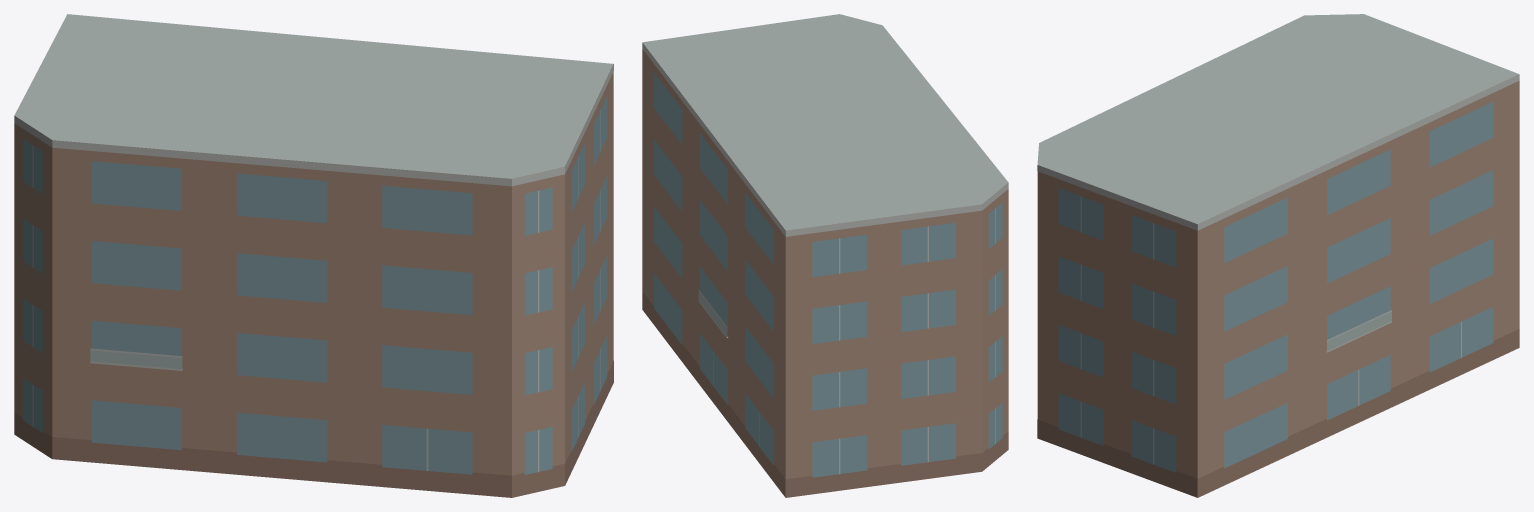
The model's file is survey-upis-32491893.glb.
3 views of the same model, side by side, from view 1: azimuth 30°, elevation 25°; view 2: azimuth 150°, elevation 25°; view 3: azimuth 270°, elevation 25° (orthographic). The views are drawn at different scales.
Parts seen in each view (by area): view 1: survey-upis-32491893.tmp; view 2: survey-upis-32491893.tmp; view 3: survey-upis-32491893.tmp.
Boxes of the visible parts, x1,y1,x2,y2 form: survey-upis-32491893.tmp: [14, 14, 613, 497]; survey-upis-32491893.tmp: [642, 14, 1008, 497]; survey-upis-32491893.tmp: [1037, 14, 1519, 497].
Size of the model in its own units: 17.15 by 10.4 by 16.62.
